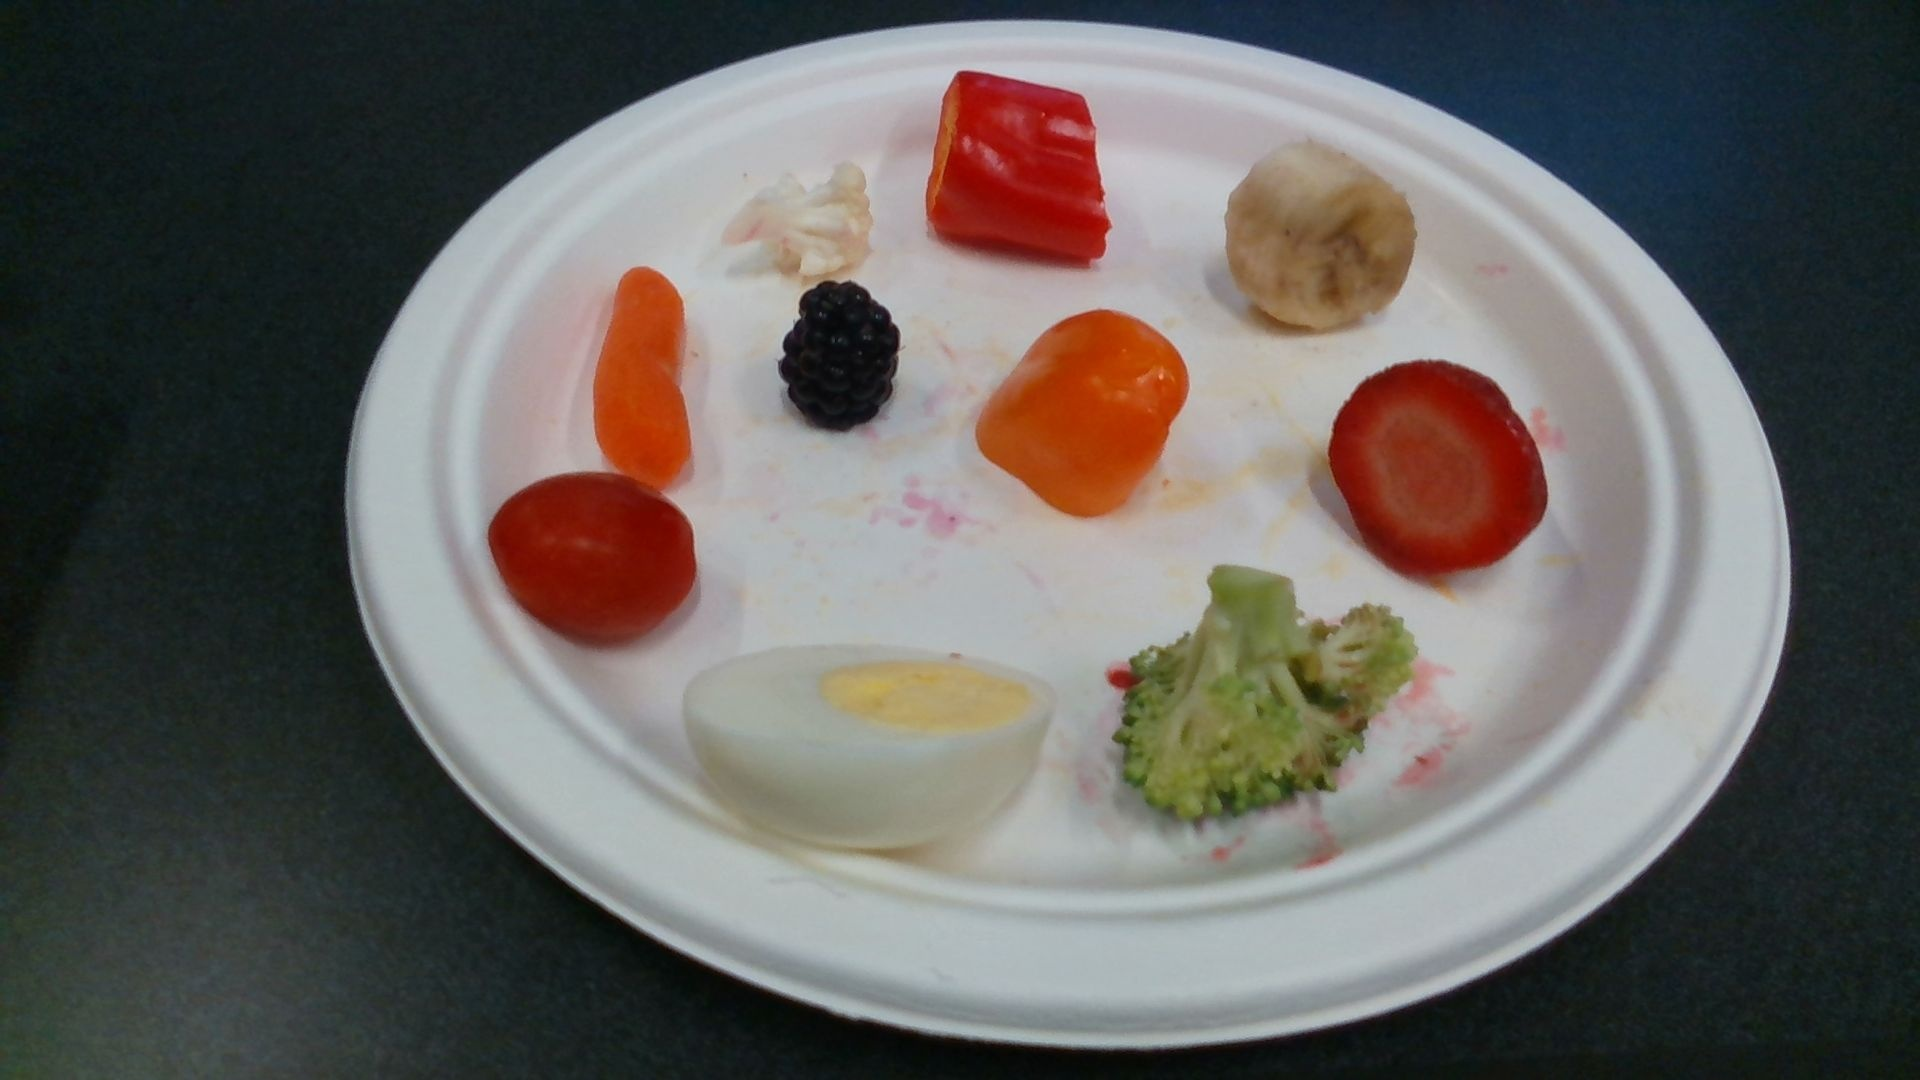banana: (1226, 142, 1418, 331)
bell_pepper: (980, 313, 1185, 513), (928, 71, 1110, 262)
blackberry: (781, 281, 899, 430)
broccoli: (1124, 566, 1410, 822)
carrot: (593, 268, 692, 483)
cauliflower: (723, 164, 872, 276)
cherry_tomato: (491, 475, 698, 644)
egg: (684, 645, 1054, 848)
strawberry: (1331, 361, 1549, 580)
